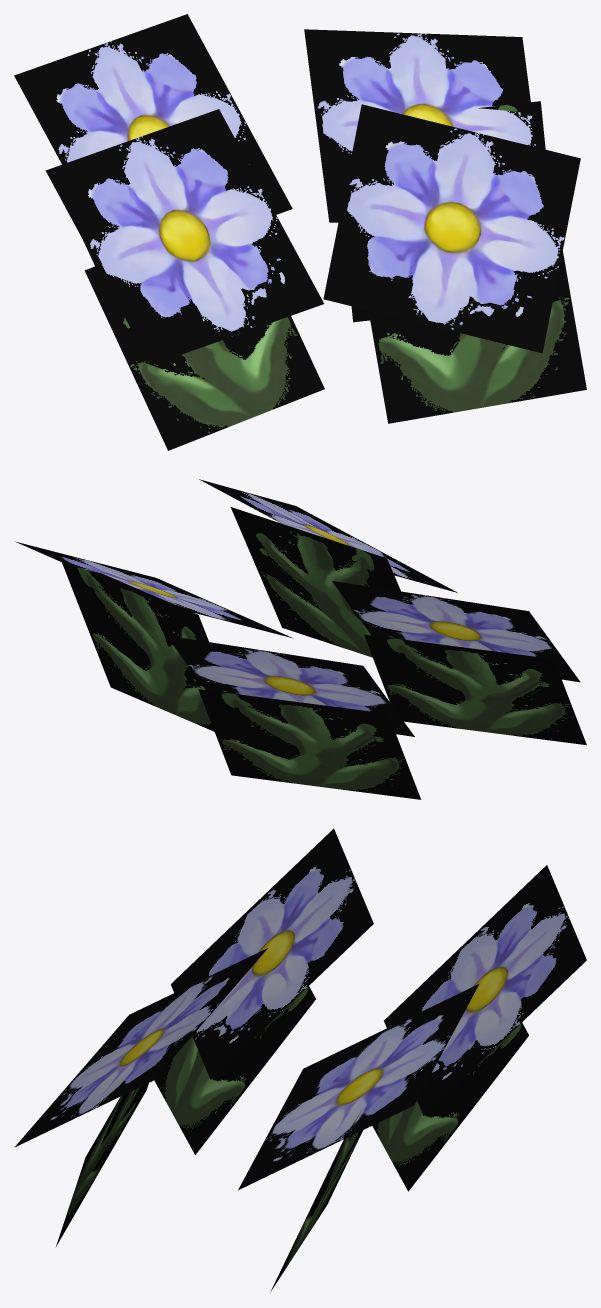
Rendered from Flower_002_HD.fbx.
The picture shows the model from 3 angles, top to bottom: view 1: azimuth 30°, elevation 25°; view 2: azimuth 150°, elevation 25°; view 3: azimuth 270°, elevation 25°; orthographic projection. The views are drawn at different scales.
Visible parts, largest first — view 1: It_019_Flower_002; view 2: It_019_Flower_002; view 3: It_019_Flower_002.
Part boxes in pixels (x1=…): It_019_Flower_002: x1=14, y1=14, x2=586, y2=450; It_019_Flower_002: x1=15, y1=479, x2=586, y2=799; It_019_Flower_002: x1=14, y1=828, x2=586, y2=1292.
Size of the model in its own units: 0.9733 by 0.4398 by 0.9232.
